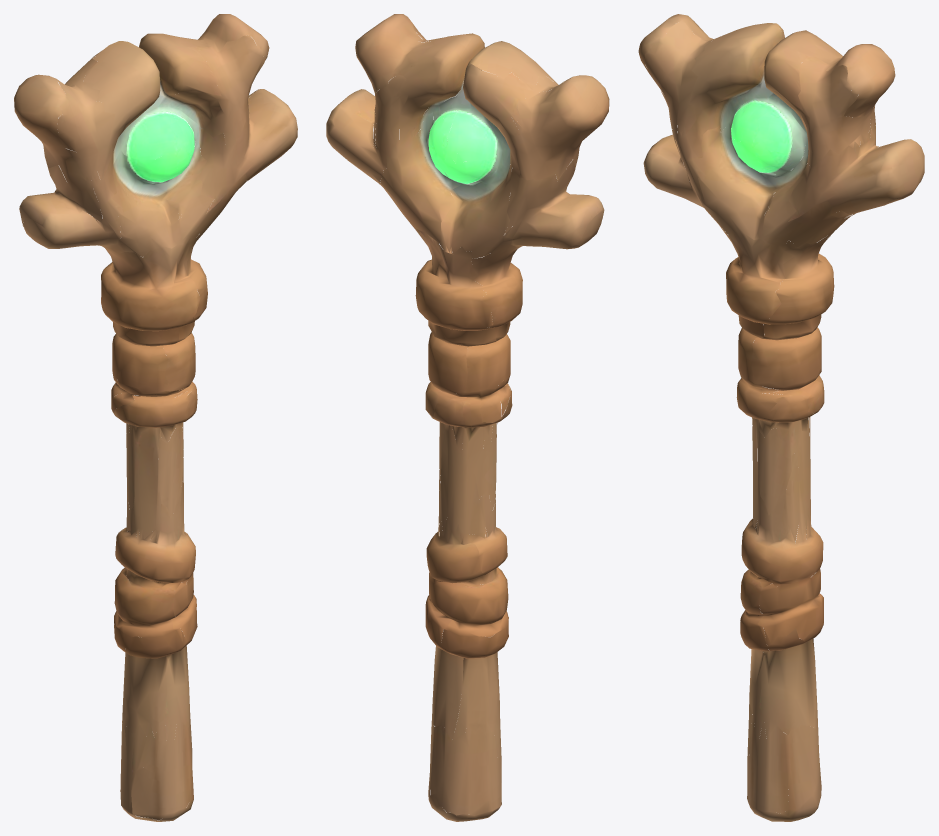
The model's file is Arm_ash_staff-C0tKj5Ec.glb.
3 renders of one model, left to right at view 1: azimuth 30°, elevation 25°; view 2: azimuth 150°, elevation 25°; view 3: azimuth 330°, elevation 25°, orthographic.
Visible parts, largest first — view 1: Arm_ash_staff; view 2: Arm_ash_staff; view 3: Arm_ash_staff.
Boxes of the visible parts, <box> form: Arm_ash_staff: <box>14,14,297,821</box>; Arm_ash_staff: <box>326,14,609,821</box>; Arm_ash_staff: <box>638,14,924,821</box>.
Bounding box in the file's own units: 0.8231 × 2.3 × 0.2912.
1 material, 1 textured.
